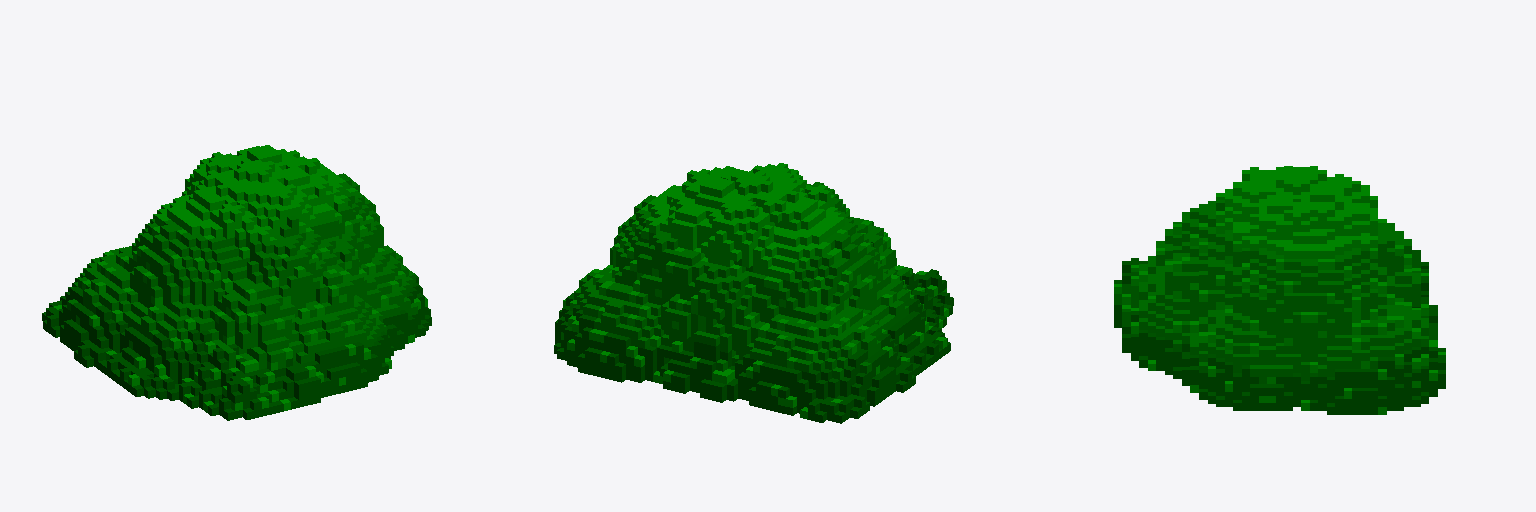
3 views of the same model, side by side, from view 1: azimuth 30°, elevation 25°; view 2: azimuth 150°, elevation 25°; view 3: azimuth 270°, elevation 25° (orthographic).
Visible parts, largest first — view 1: object 1; view 2: object 1; view 3: object 1.
Part boxes in pixels (x1,y1,x2,y2): object 1: (42,145,431,420); object 1: (554,163,953,423); object 1: (1114,166,1445,414).
Size of the model in its own units: 4.3 by 2.1 by 3.9.
1 materials, 1 textured.